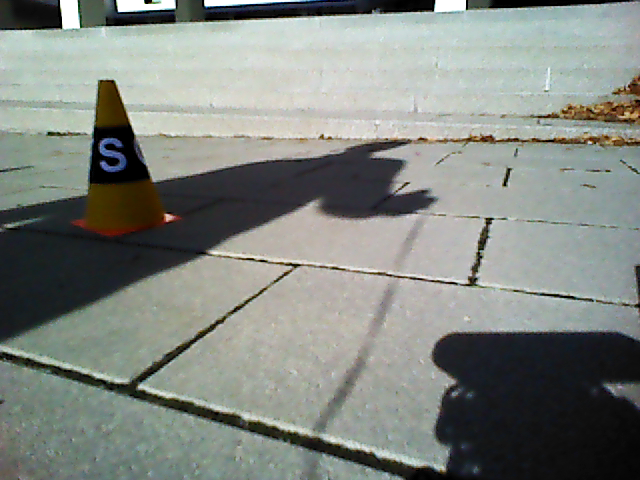yellowcone: (84, 80, 161, 224)
